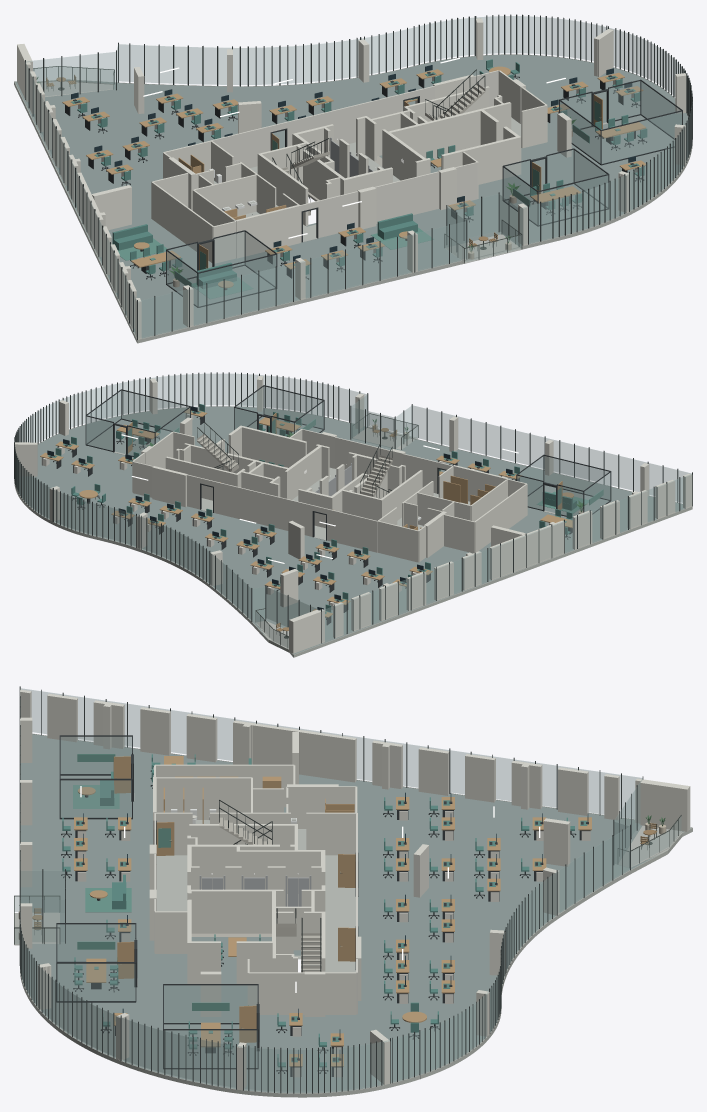
Rendered from office-floor-01-r3.glb.
3 views of the same model, one above another, from view 1: azimuth 30°, elevation 25°; view 2: azimuth 150°, elevation 25°; view 3: azimuth 270°, elevation 25° (orthographic). The views are drawn at different scales.
Parts seen in each view (by area): view 1: SOURCE FLOOR | registered floor slab, SOURCE TRACED PARTITION | corrected R3 tenant south.001, SOURCE WALL | 90, R3 PROPOSED PARTITION | meeting-east.002, SOURCE WALL | 737, R3 PROPOSED PARTITION | focus-west.002, SOURCE TRACED PARTITION | corrected R3 tenant north.001, SOURCE TRACED PARTITION | service corridor.015, SOURCE WALL | 92, R3 PROPOSED PARTITION | meeting-south.002, SOURCE FLOOR | slab edge.148, SOURCE TRACED PARTITION | corrected R3 tenant north (+75 smaller); view 2: SOURCE FLOOR | registered floor slab, SOURCE TRACED PARTITION | corrected R3 tenant north.001, SOURCE WALL | 292.008, SOURCE TRACED PARTITION | corrected R3 tenant south.001, SOURCE WALL | 92, R3 PROPOSED PARTITION | focus-west.002, R3 PROPOSED PARTITION | meeting-east.002, SOURCE TRACED PARTITION | service corridor.015, SOURCE TRACED PARTITION | corrected R3 tenant north, SOURCE FLOOR | slab edge, R3 PROPOSED PARTITION | meeting-south.002, SOURCE TRACED PARTITION | service corridor (+44 smaller); view 3: SOURCE FLOOR | registered floor slab, SOURCE WALL | 292.008, SOURCE CORRIDOR | circulation finish, SOURCE TRACED PARTITION | service corridor.021, SOURCE WALL | 89, SOURCE TRACED PARTITION | service corridor.010, R3 PROPOSED PARTITION | meeting-east, R3 PROPOSED PARTITION | meeting-south.001, R3 PROPOSED PARTITION | focus-west.001, R3 PROPOSED PARTITION | meeting-east.001, SOURCE WALL | 224, R3 PROPOSED PARTITION | meeting-south (+47 smaller).
Part boxes in pixels (left/top/right/bottom): SOURCE FLOOR | registered floor slab: left=15, top=55, right=688, bottom=338; SOURCE TRACED PARTITION | corrected R3 tenant south.001: left=318, top=162, right=477, bottom=237; SOURCE WALL | 90: left=389, top=108, right=483, bottom=159; R3 PROPOSED PARTITION | meeting-east.002: left=602, top=112, right=681, bottom=163; SOURCE WALL | 737: left=235, top=205, right=300, bottom=258; R3 PROPOSED PARTITION | focus-west.002: left=199, top=255, right=276, bottom=305; SOURCE TRACED PARTITION | corrected R3 tenant north.001: left=287, top=93, right=403, bottom=146; SOURCE TRACED PARTITION | service corridor.015: left=151, top=182, right=213, bottom=262; SOURCE WALL | 92: left=441, top=136, right=517, bottom=184; R3 PROPOSED PARTITION | meeting-south.002: left=539, top=175, right=608, bottom=224; SOURCE FLOOR | slab edge.148: left=137, top=244, right=528, bottom=343; SOURCE TRACED PARTITION | corrected R3 tenant north: left=211, top=126, right=270, bottom=167; SOURCE FLOOR | registered floor slab: left=19, top=406, right=685, bottom=654; SOURCE TRACED PARTITION | corrected R3 tenant north.001: left=214, top=481, right=313, bottom=536; SOURCE WALL | 292.008: left=489, top=525, right=553, bottom=580; SOURCE TRACED PARTITION | corrected R3 tenant south.001: left=302, top=429, right=437, bottom=493; SOURCE WALL | 92: left=242, top=426, right=306, bottom=467; R3 PROPOSED PARTITION | focus-west.002: left=544, top=456, right=609, bottom=499; R3 PROPOSED PARTITION | meeting-east.002: left=122, top=391, right=189, bottom=431; SOURCE TRACED PARTITION | service corridor.015: left=474, top=484, right=527, bottom=552; SOURCE TRACED PARTITION | corrected R3 tenant north: left=327, top=509, right=377, bottom=552; SOURCE FLOOR | slab edge: left=293, top=506, right=692, bottom=657; R3 PROPOSED PARTITION | meeting-south.002: left=264, top=386, right=323, bottom=428; SOURCE TRACED PARTITION | service corridor: left=377, top=521, right=418, bottom=562; SOURCE FLOOR | registered floor slab: left=20, top=734, right=690, bottom=1093; SOURCE WALL | 292.008: left=251, top=723, right=356, bottom=782; SOURCE CORRIDOR | circulation finish: left=156, top=855, right=355, bottom=972; SOURCE TRACED PARTITION | service corridor.021: left=248, top=972, right=356, bottom=1014; SOURCE WALL | 89: left=187, top=889, right=275, bottom=933; SOURCE TRACED PARTITION | service corridor.010: left=156, top=777, right=251, bottom=819; R3 PROPOSED PARTITION | meeting-east: left=164, top=985, right=257, bottom=1022; R3 PROPOSED PARTITION | meeting-south.001: left=57, top=964, right=135, bottom=1000; R3 PROPOSED PARTITION | focus-west.001: left=61, top=780, right=131, bottom=817; R3 PROPOSED PARTITION | meeting-east.001: left=165, top=1030, right=257, bottom=1067; SOURCE WALL | 224: left=640, top=779, right=690, bottom=831; R3 PROPOSED PARTITION | meeting-south: left=57, top=924, right=135, bottom=961.
Size of the model in its own units: 49.76 by 5.32 by 39.45.
